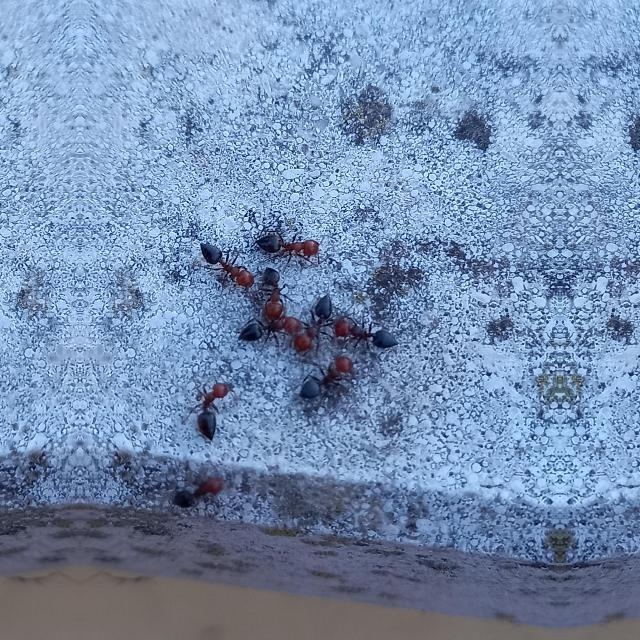Crematogaster: (283, 286, 337, 356), (336, 306, 402, 354), (302, 352, 362, 402), (262, 232, 330, 272), (190, 376, 226, 444), (245, 310, 305, 338), (254, 260, 286, 310)
